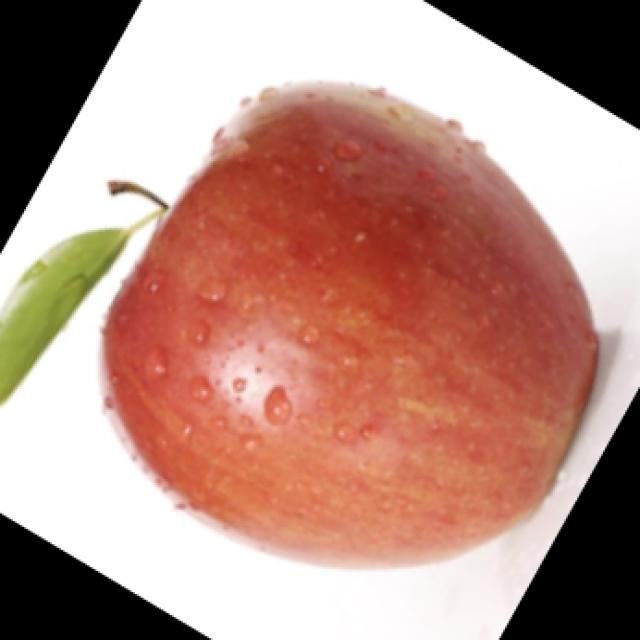Fresh Apple: (105, 92, 622, 560)
